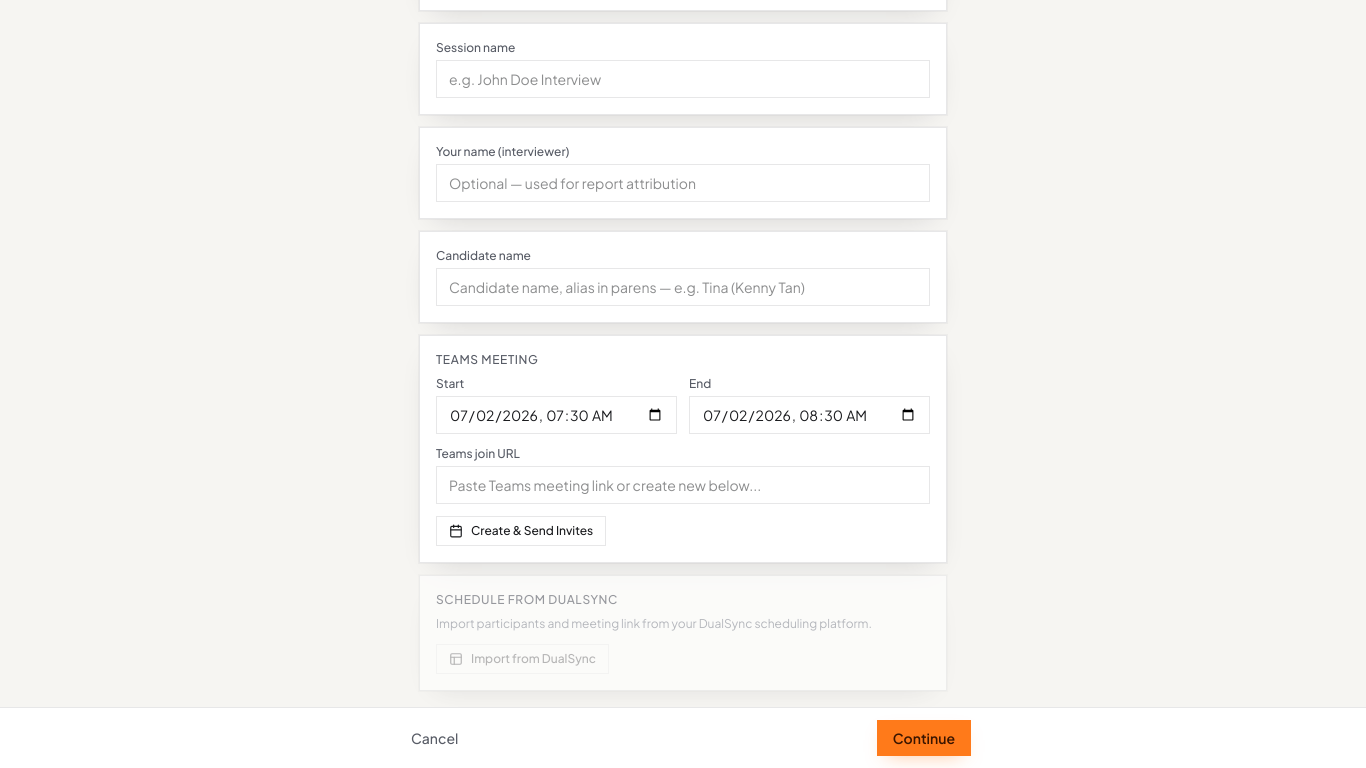
Test: SetupView Step 2 — Evaluation Rubric consolidation › renders the EvaluationRubricEditor and Interview Flow on Step 2
The image size is (1366, 768).
(page scrolled)
Click the button "Continue": (924,738) [877,720,971,756]
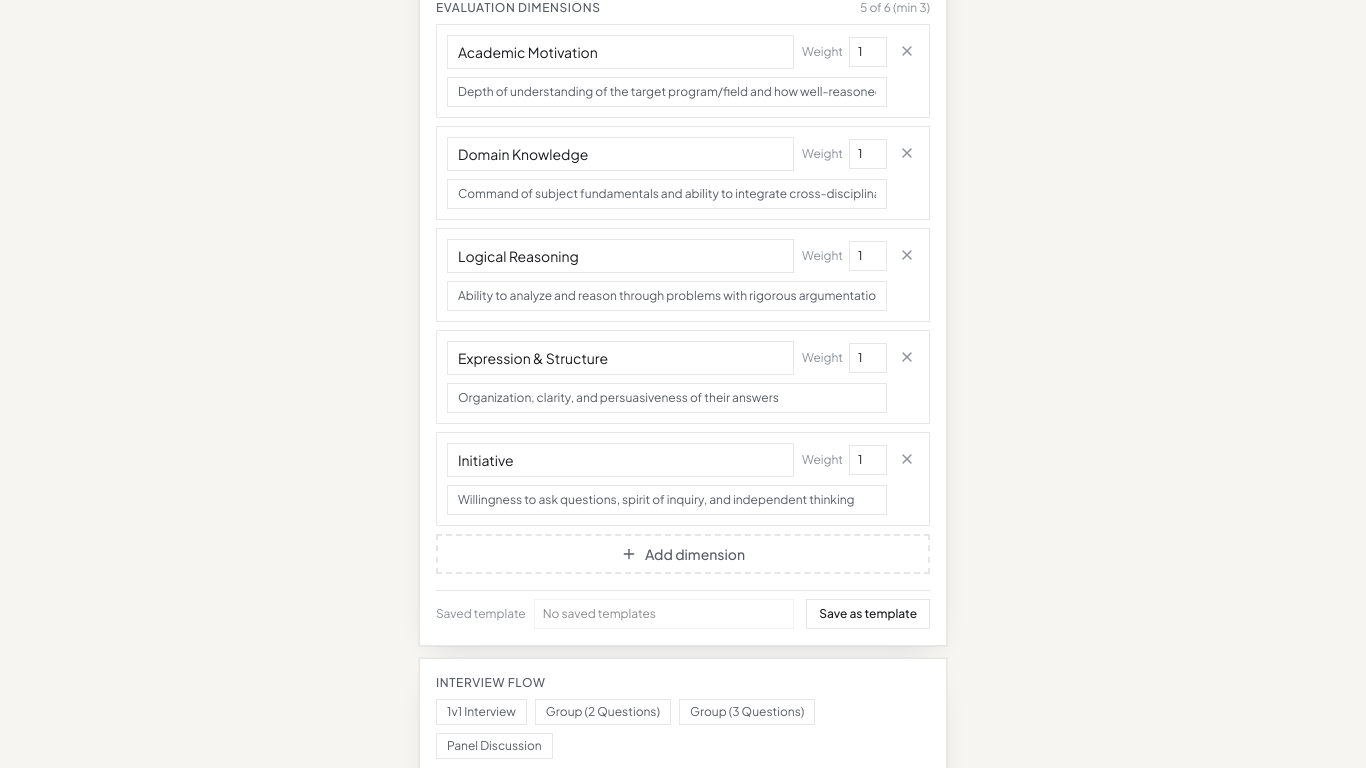
expect the heading "Evaluation Dimensions" is shown: met, box [436,0,601,16]
expect the heading "Interview Flow" is shown: met, box [436,675,546,690]
